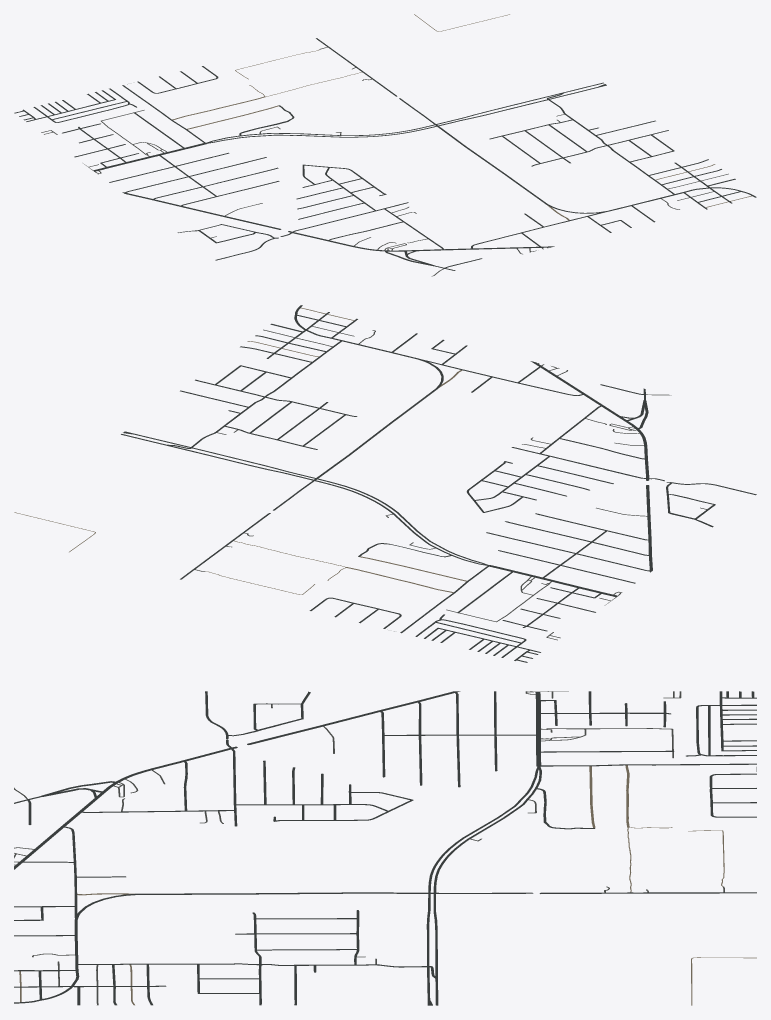
File: Roads.glb
3 views of the same model, one above another, from view 1: azimuth 30°, elevation 25°; view 2: azimuth 150°, elevation 25°; view 3: azimuth 270°, elevation 25° (orthographic). The views are drawn at different scales.
Visible parts, largest first — view 1: Roads; view 2: Roads; view 3: Roads.
Part boxes in pixels (x1,y1,x2,y2): Roads: (14,14,756,276); Roads: (14,305,756,662); Roads: (14,691,756,1005).
Size of the model in its own units: 2000 by 3.25 by 2000.
